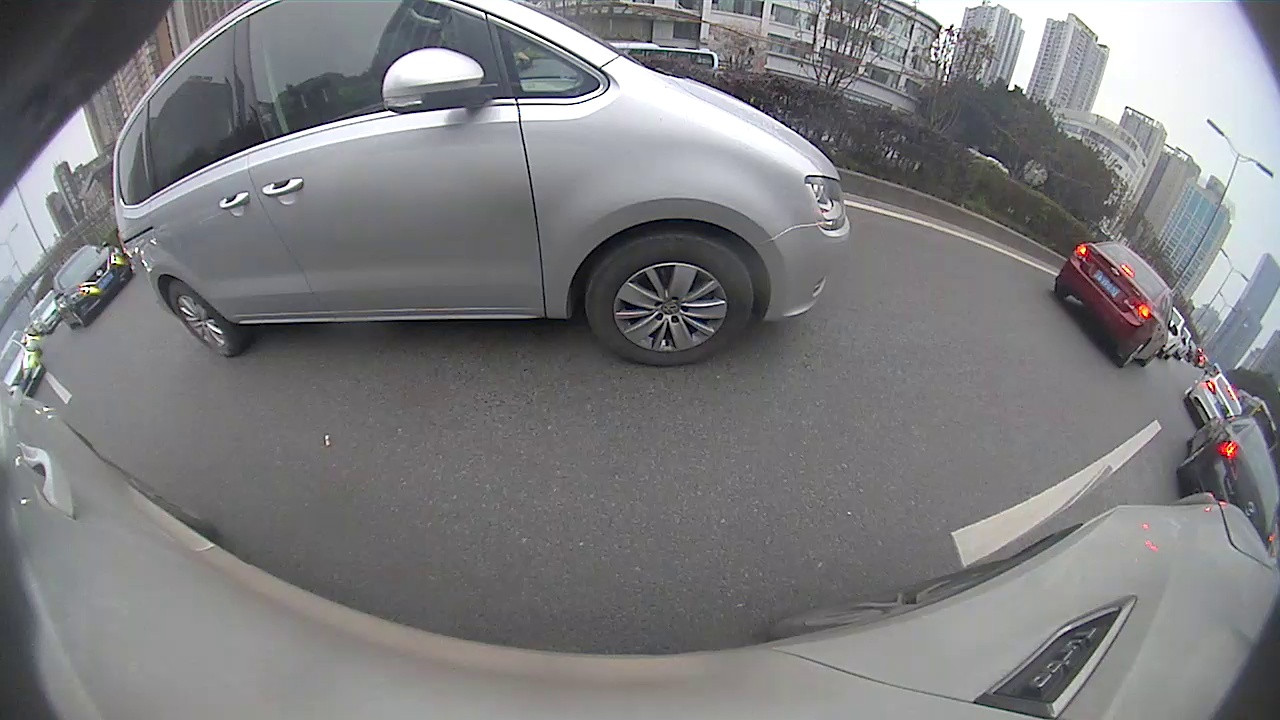car: (110, 2, 853, 368), (1052, 241, 1180, 369), (1175, 406, 1277, 552), (51, 243, 135, 331), (1185, 369, 1244, 428), (1, 334, 46, 401)
front: (589, 237, 755, 365)
rear: (166, 277, 234, 358), (1121, 340, 1151, 369)
